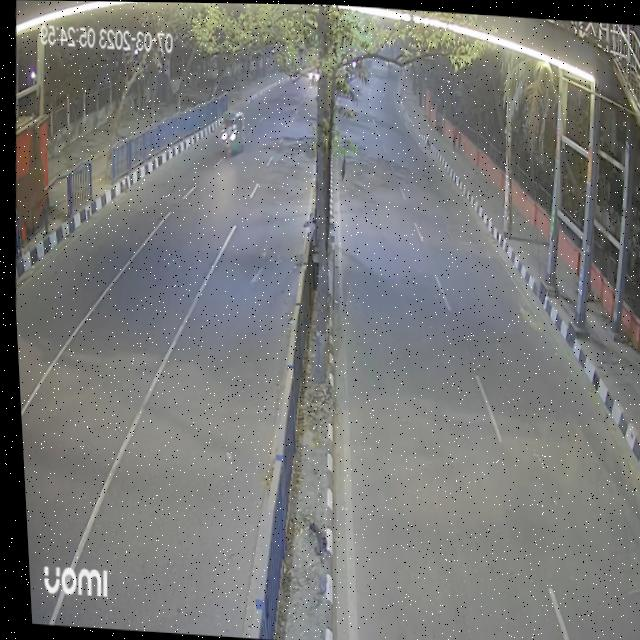cng: (217, 106, 246, 158)
